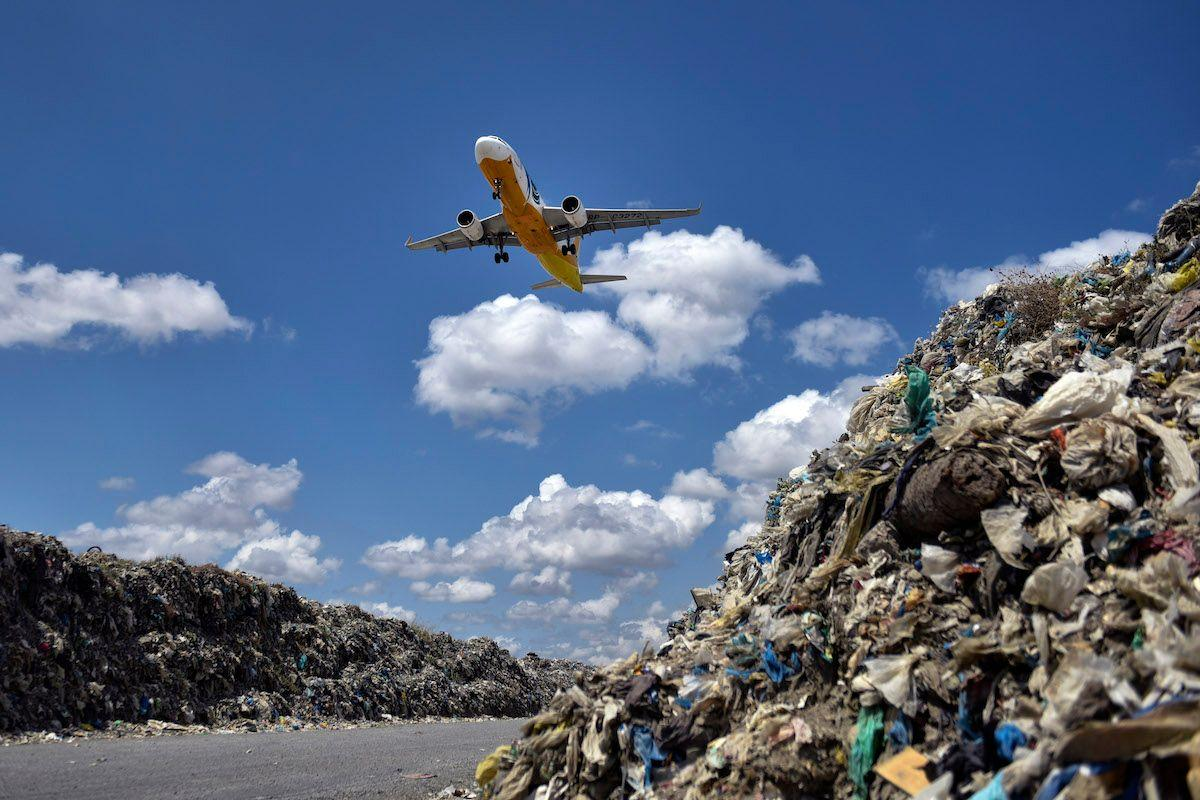garbage: (605, 333, 1200, 800), (0, 565, 541, 739)
